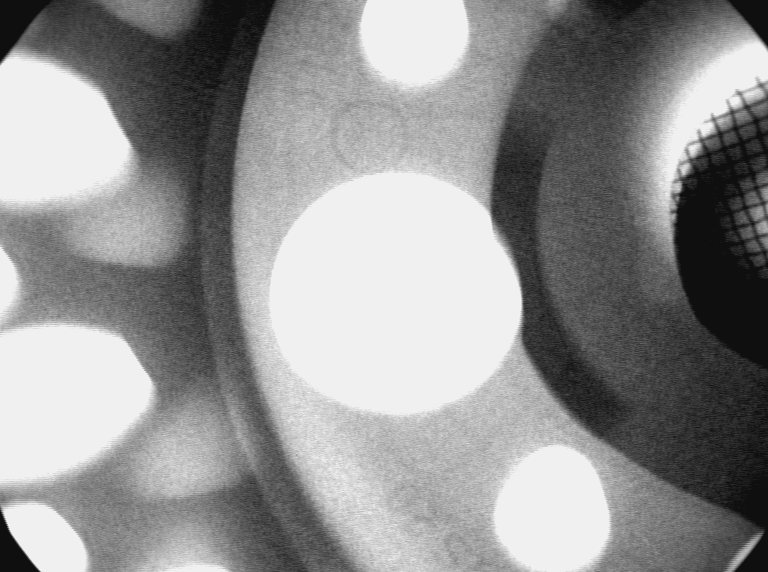defect: (550, 4, 599, 38)
